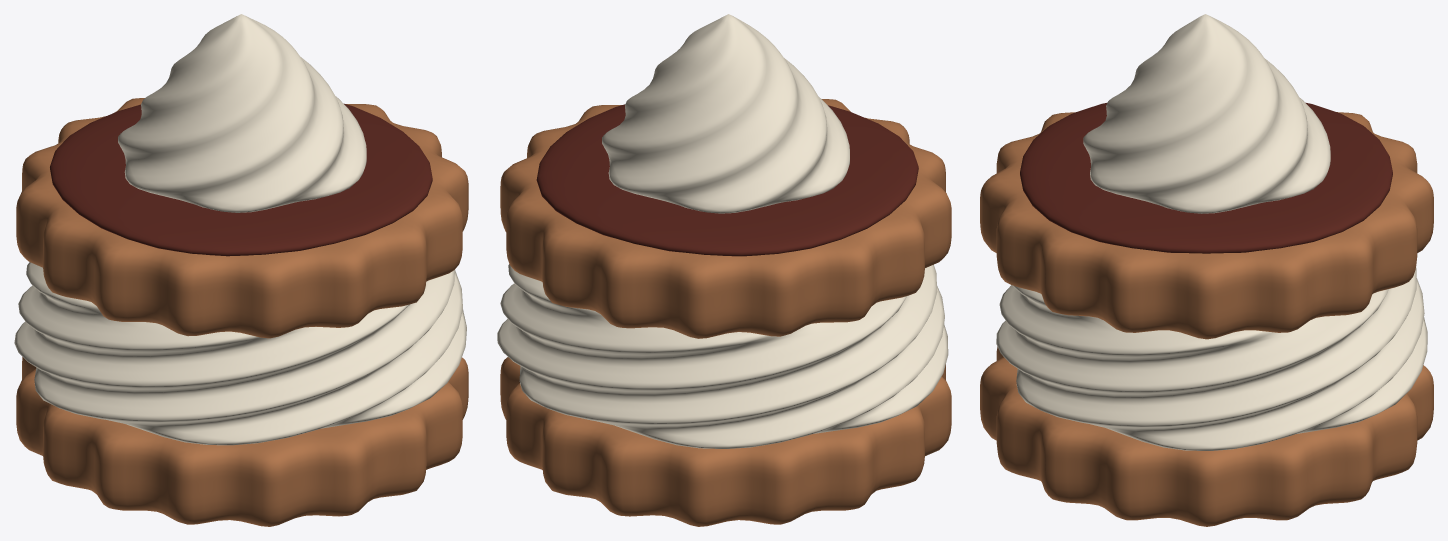
The model's file is DanishMedallon(Ver1.2).fbx.
The picture shows the model from 3 angles, left to right: view 1: azimuth 30°, elevation 25°; view 2: azimuth 150°, elevation 25°; view 3: azimuth 270°, elevation 25°; orthographic projection.
Visible parts, largest first — view 1: Cookie_top1; view 2: Cookie_top1; view 3: Cookie_top1.
Part boxes in pixels (x1,y1,x2,y2): Cookie_top1: (14,14,468,526); Cookie_top1: (497,14,951,526); Cookie_top1: (980,14,1433,526).
Bounding box in the file's own units: 184 × 190 × 184.
